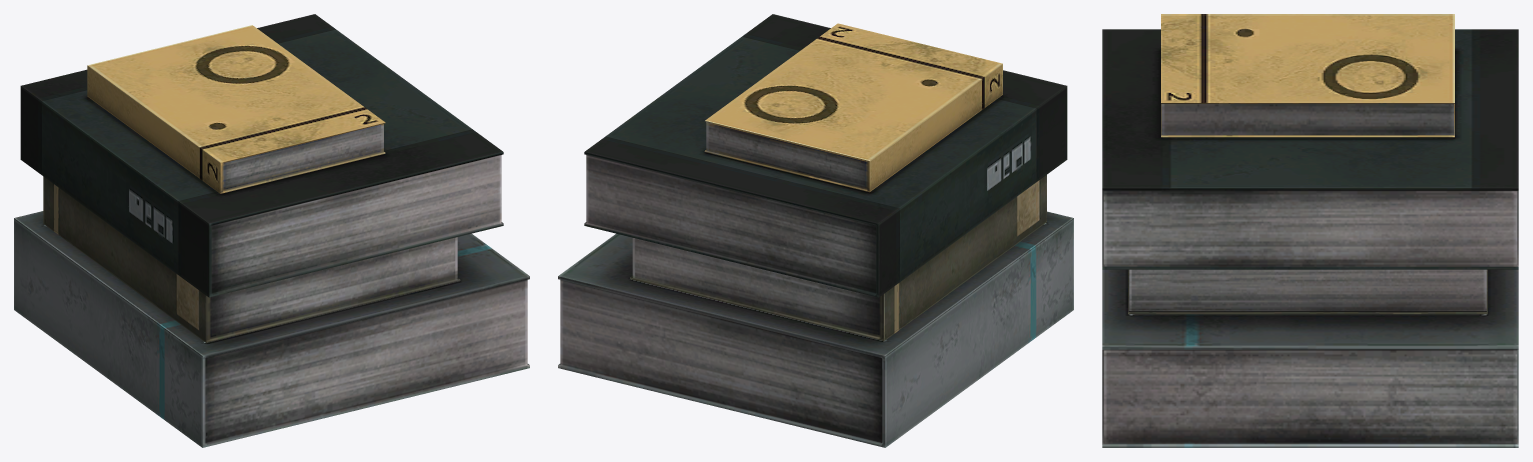
File: book_pile01.dae
3 renders of one model, left to right at view 1: azimuth 30°, elevation 25°; view 2: azimuth 150°, elevation 25°; view 3: azimuth 270°, elevation 25°, orthographic. The views are drawn at different scales.
Visible parts, largest first — view 1: book_pile01_LP; view 2: book_pile01_LP; view 3: book_pile01_LP.
Boxes of the visible parts, bbox=[...] form: book_pile01_LP: bbox=[14, 14, 529, 447]; book_pile01_LP: bbox=[558, 14, 1073, 447]; book_pile01_LP: bbox=[1102, 14, 1518, 447].
Bounding box in the file's own units: 0.3465 × 0.2579 × 0.3456.
